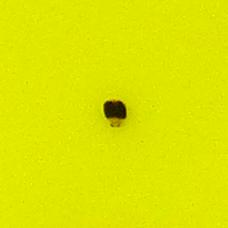Coleoptera: (100, 100, 128, 128)
